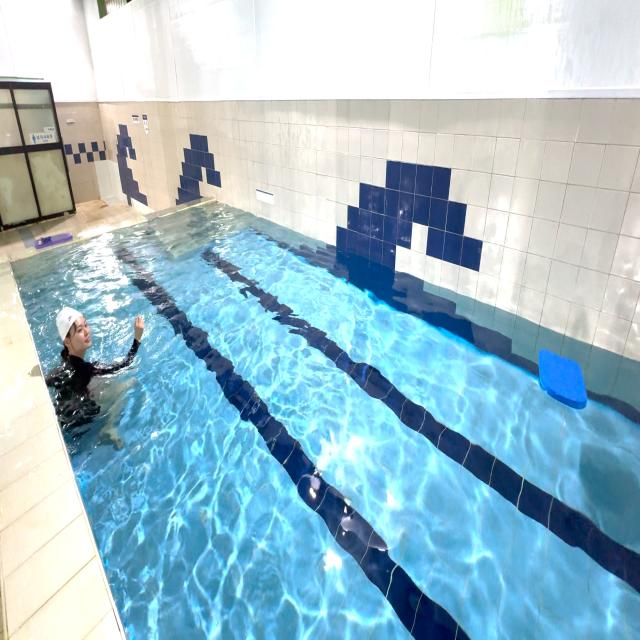Swimming: (41, 302, 146, 450)
